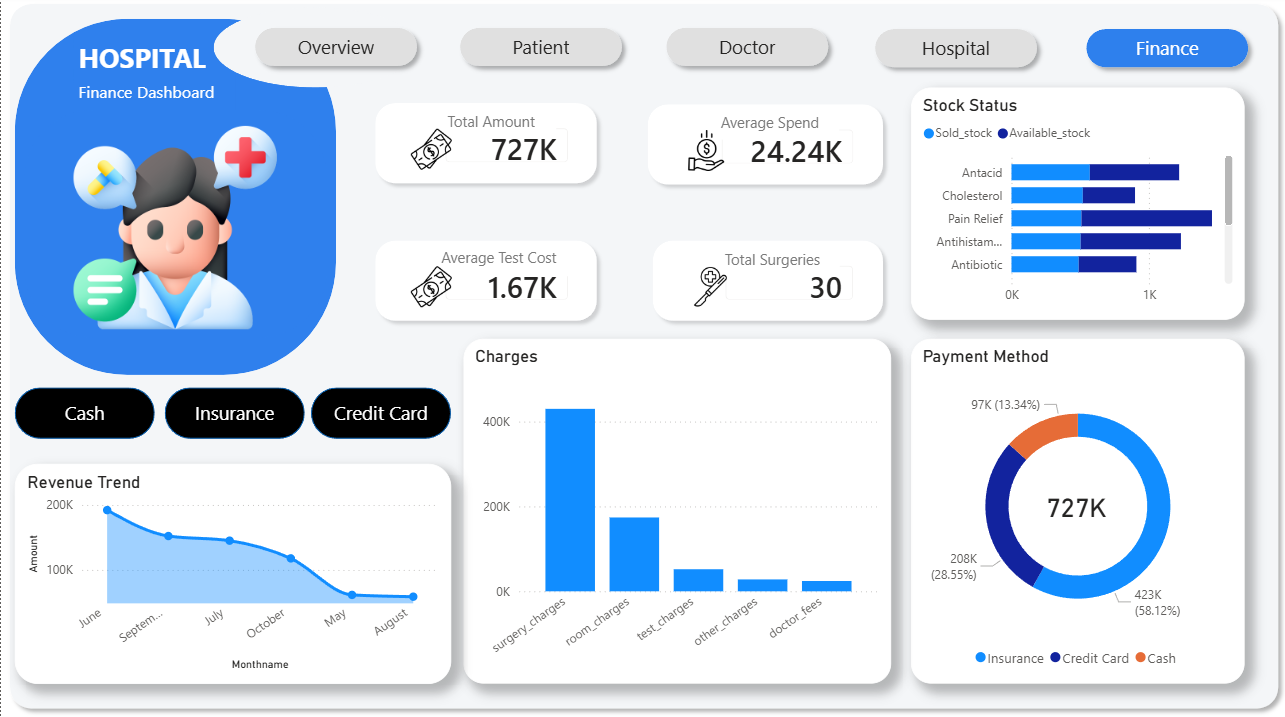

Layout of this report page (visuals, bound fields, positions):
{"tool":"powerbi","page":{"name":"Finance","canvas":[1280,720],"ordinal":5},"visuals":[{"type":"shape","box":[0,0,1280,719],"z":0},{"type":"shape","title":"kpi_bg_temp","box":[364.5,99.5,236.4,95.8],"z":0,"group":"g1"},{"type":"shape","title":"kpi_bg_temp","box":[635.7,100.8,250,95.8],"z":0,"group":"g3"},{"type":"shape","title":"kpi_bg_temp","box":[364.5,236.4,236.4,95.8],"z":0,"group":"g4"},{"type":"shape","title":"kpi_bg_temp","box":[640.6,236.4,245.1,95.8],"z":0,"group":"g2"},{"type":"shape","box":[447.8,23.6,179.1,56],"z":1000},{"type":"cardVisual","fields":{"Data":["Measure Calculation.Amount"]},"box":[425.8,115.4,156.1,68.4],"z":1000,"group":"g1"},{"type":"cardVisual","fields":{"Data":["Measure Calculation.Avg Spend"]},"box":[700.6,116.7,165.1,68.4],"z":1000,"group":"g3"},{"type":"cardVisual","fields":{"Data":["Measure Calculation.Avg Test Cost"]},"box":[425.8,252.3,156.1,68.4],"z":1000,"group":"g4"},{"type":"cardVisual","fields":{"Data":["Measure Calculation.Total Surgeries"]},"box":[704.2,252.3,161.9,68.4],"z":1000,"group":"g2"},{"type":"shape","box":[653.1,23.6,179.1,56],"z":2000},{"type":"textbox","box":[422.5,111.3,129.8,32.3],"z":2000,"group":"g1"},{"type":"textbox","box":[697,112.6,137.3,32.3],"z":2000,"group":"g3"},{"type":"textbox","box":[422.4,246.4,145.2,33.6],"z":2000,"group":"g4"},{"type":"textbox","box":[700.7,248.2,134.5,32.3],"z":2000,"group":"g2"},{"type":"shape","box":[860.8,24.9,179.1,56],"z":3000},{"type":"image","box":[380.1,133.6,94.6,40.9],"z":3000,"group":"g1"},{"type":"image","box":[652.2,134.9,100.1,40.9],"z":3000,"group":"g3"},{"type":"image","box":[380.1,270.5,94.6,40.9],"z":3000,"group":"g4"},{"type":"image","box":[656.7,270.5,98.1,40.9],"z":3000,"group":"g2"},{"type":"shape","box":[1071,24.9,179.1,56],"z":4000},{"type":"shape","title":"Blue_base","box":[13.7,23.6,319.7,354.5],"z":5000},{"type":"shape","box":[211.5,12.4,202.8,79.6],"z":6000},{"type":"shape","box":[243.8,23.6,179.1,56],"z":7000},{"type":"textbox","box":[72.1,38.6,139.3,53.5],"z":8000},{"type":"textbox","box":[72.1,79.6,160.5,41.1],"z":9000},{"type":"shape","box":[23.6,114.4,301,226.4],"z":10000},{"type":"image","box":[72.1,120.7,202.8,221.4],"z":11000},{"type":"barChart","title":"Stock Status","fields":{"Category":["Medical Stock.category"],"Y":["Measure Calculation.Sold_stock","Measure Calculation.Available_stock"]},"box":[905.6,92.1,332.1,231.4],"z":12000},{"type":"donutChart","title":"Payment Method","fields":{"Category":["Hospital Bills.payment_method"],"Y":["Sum(Hospital Bills.Amount)"]},"box":[905.6,342.1,332.1,343.3],"z":13000},{"type":"columnChart","title":"Charges","fields":{"Category":["Hospital Bills.Charges Type"],"Y":["Sum(Hospital Bills.Amount)"]},"box":[460.3,342.1,425.4,343.3],"z":14000},{"type":"group","id":"g1","title":"kpi_patients","box":[364.5,99.5,236.4,95.8],"z":15000},{"type":"group","id":"g2","title":"kpi_patients","box":[640.6,236.4,245.1,95.8],"z":16000},{"type":"group","id":"g3","title":"kpi_patients","box":[635.7,100.8,250,95.8],"z":17000},{"type":"group","id":"g4","title":"kpi_patients","box":[364.5,236.4,236.4,95.8],"z":18000},{"type":"lineChart","title":"Revenue Trend","fields":{"Category":["Calendar_Table.Monthname"],"Y":["Measure Calculation.Amount"]},"box":[13.7,466.5,434.1,218.9],"z":19000},{"type":"card","fields":{"Values":["Sum(Hospital Bills.Amount)"]},"box":[1022.5,466.5,95.8,84.6],"z":20000},{"type":"shape","box":[13.7,390.6,139.3,51],"z":21000},{"type":"shape","box":[163,390.6,139.3,51],"z":22000},{"type":"shape","box":[308.5,390.6,139.3,51],"z":23000}]}

Visuals, with their boxes in screenshot pixels (x1, y1, x2, y2), scaled from the page's 1280x720 canvas onto the 1285x717 screenshot:
shape: bbox(0, 0, 1284, 716)
"kpi_bg_temp" shape: bbox(366, 99, 603, 194)
"kpi_bg_temp" shape: bbox(638, 100, 889, 196)
"kpi_bg_temp" shape: bbox(366, 235, 603, 331)
"kpi_bg_temp" shape: bbox(643, 235, 889, 331)
shape: bbox(450, 24, 629, 79)
cardVisual - Measure Calculation.Amount: bbox(427, 115, 584, 183)
cardVisual - Measure Calculation.Avg Spend: bbox(703, 116, 869, 184)
cardVisual - Measure Calculation.Avg Test Cost: bbox(427, 251, 584, 319)
cardVisual - Measure Calculation.Total Surgeries: bbox(707, 251, 869, 319)
shape: bbox(656, 24, 835, 79)
textbox: bbox(424, 111, 554, 143)
textbox: bbox(700, 112, 838, 144)
textbox: bbox(424, 245, 570, 279)
textbox: bbox(703, 247, 838, 279)
shape: bbox(864, 25, 1044, 81)
image: bbox(382, 133, 477, 174)
image: bbox(655, 134, 755, 175)
image: bbox(382, 269, 477, 310)
image: bbox(659, 269, 758, 310)
shape: bbox(1075, 25, 1255, 81)
"Blue_base" shape: bbox(14, 24, 335, 377)
shape: bbox(212, 12, 416, 92)
shape: bbox(245, 24, 425, 79)
textbox: bbox(72, 38, 212, 92)
textbox: bbox(72, 79, 234, 120)
shape: bbox(24, 114, 326, 339)
image: bbox(72, 120, 276, 341)
"Stock Status" barChart: bbox(909, 92, 1243, 322)
"Payment Method" donutChart: bbox(909, 341, 1243, 683)
"Charges" columnChart: bbox(462, 341, 889, 683)
"kpi_patients" group: bbox(366, 99, 603, 194)
"kpi_patients" group: bbox(643, 235, 889, 331)
"kpi_patients" group: bbox(638, 100, 889, 196)
"kpi_patients" group: bbox(366, 235, 603, 331)
"Revenue Trend" lineChart: bbox(14, 465, 450, 683)
card - Sum(Hospital Bills.Amount): bbox(1026, 465, 1123, 549)
shape: bbox(14, 389, 154, 440)
shape: bbox(164, 389, 303, 440)
shape: bbox(310, 389, 450, 440)
